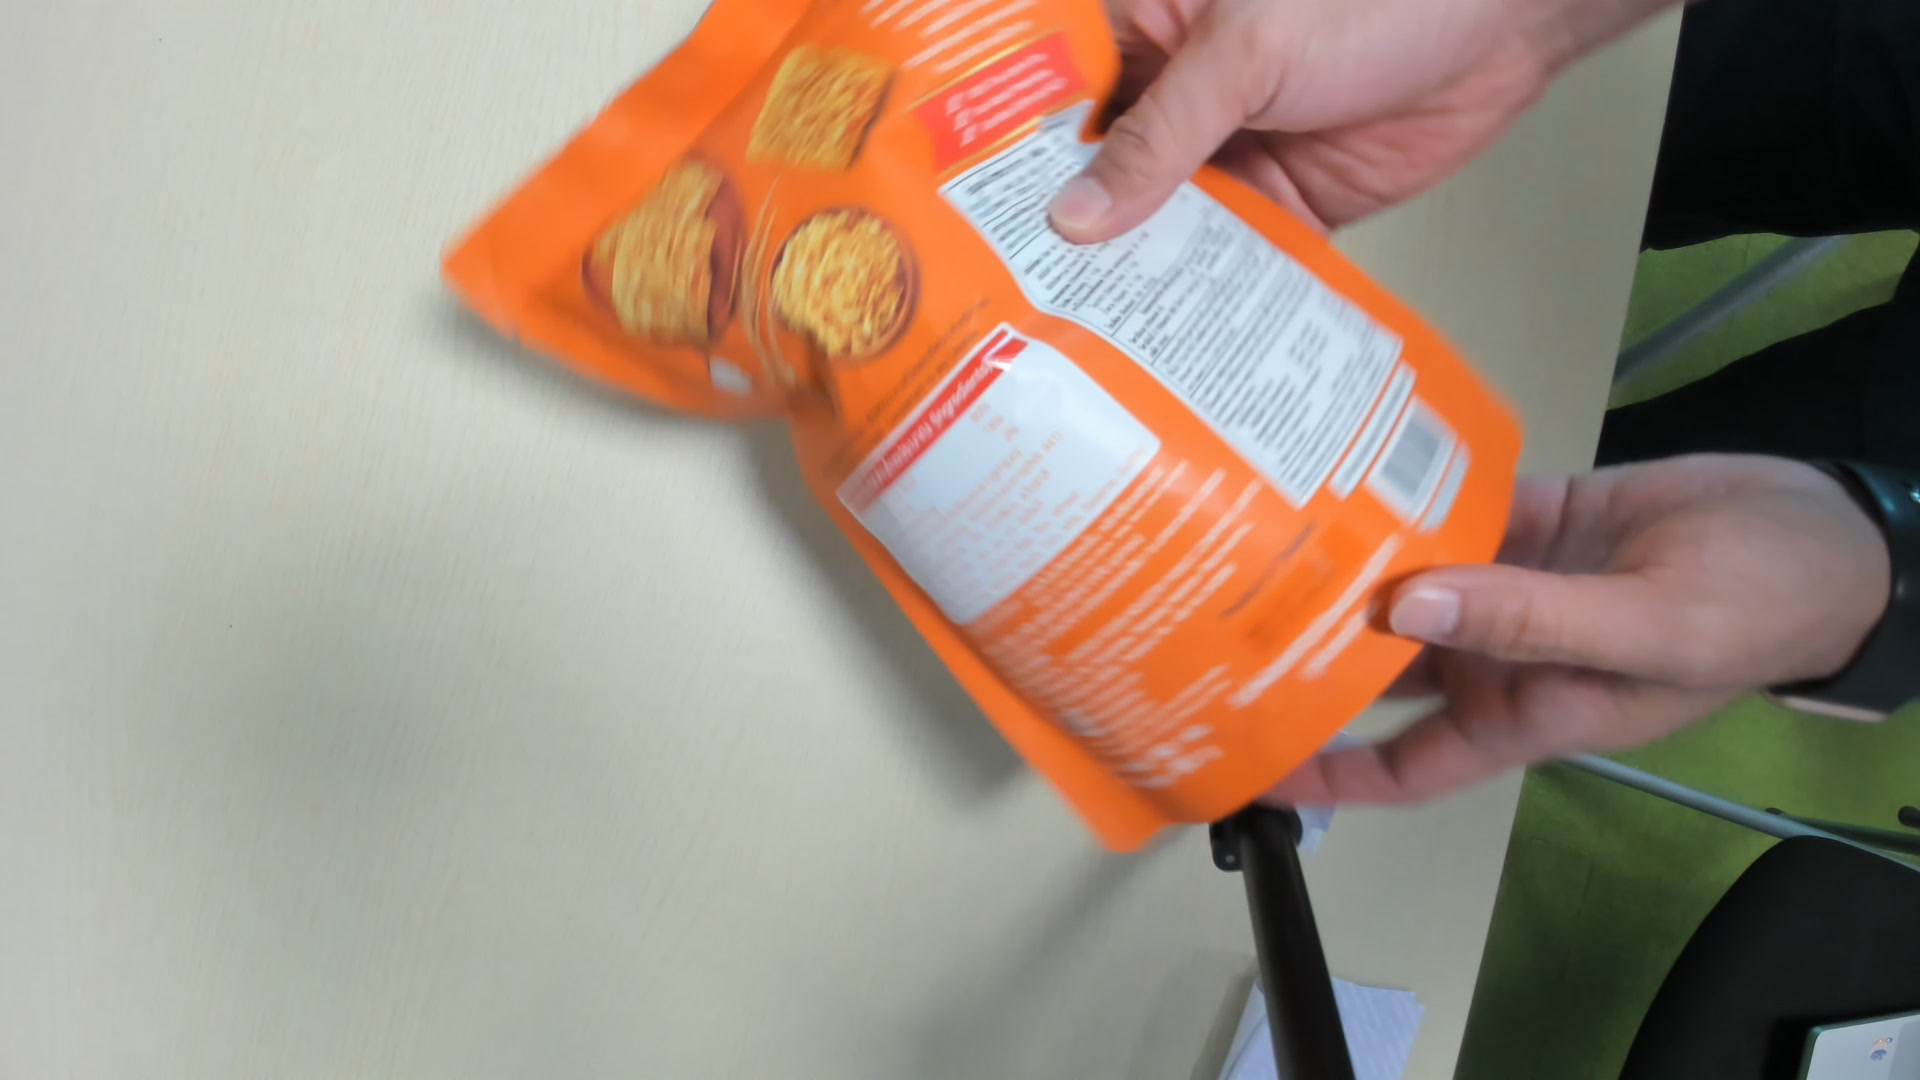PotatoChipsKeropok_0-99g_NonHalal_NonHealthy: (447, 3, 1534, 855)
